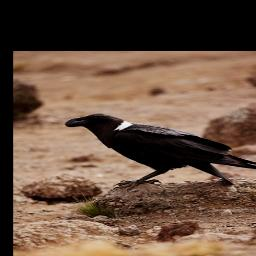Crow: (62, 111, 256, 194)
